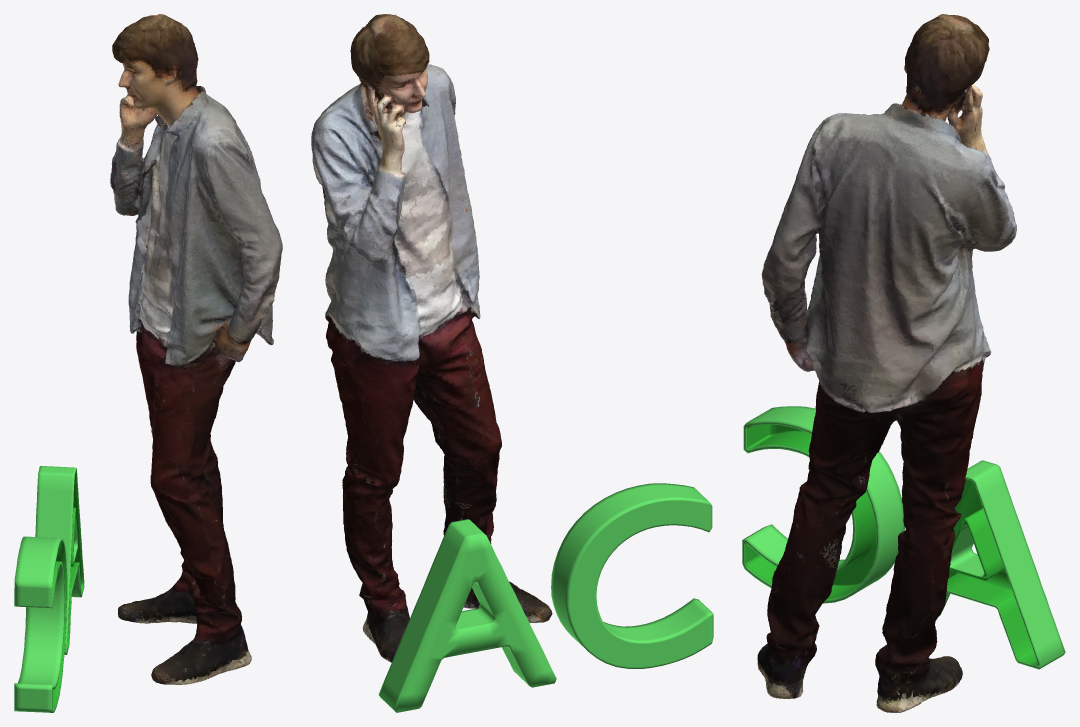
File: person-transformed.glb
3 views of the same model, side by side, from view 1: azimuth 30°, elevation 25°; view 2: azimuth 150°, elevation 25°; view 3: azimuth 270°, elevation 25° (orthographic). The views are drawn at different scales.
Parts seen in each view (by area): view 1: University Building.077; view 2: University Building.077; view 3: University Building.077.
Boxes of the visible parts, x1,y1,x2,y2 form: University Building.077: [14, 14, 282, 712]; University Building.077: [311, 14, 713, 712]; University Building.077: [742, 14, 1065, 712].
Bounding box in the file's own units: 1.47 × 2.8 × 1.22.
3 materials, 1 textured.
